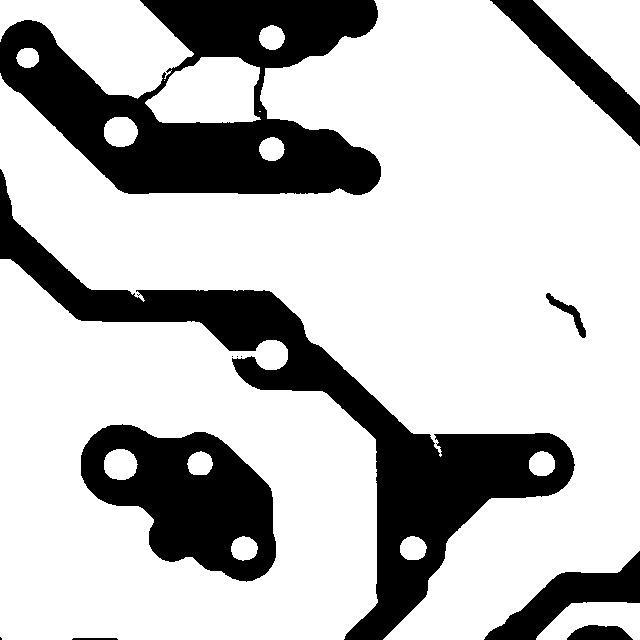copper: (536, 283, 595, 347)
mousebite: (417, 418, 451, 466), (114, 276, 154, 311)
open: (218, 341, 271, 368)
short: (128, 42, 211, 113), (244, 55, 276, 132)
